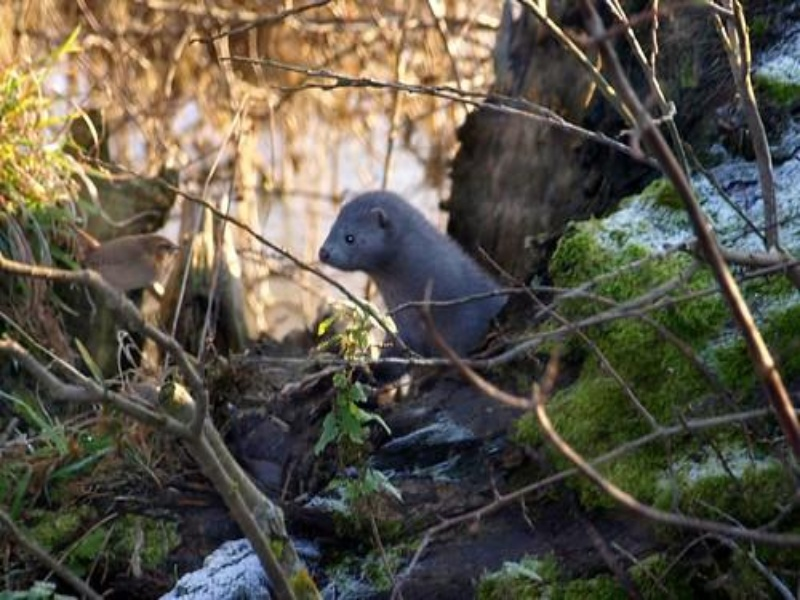minkish: (318, 189, 502, 363)
